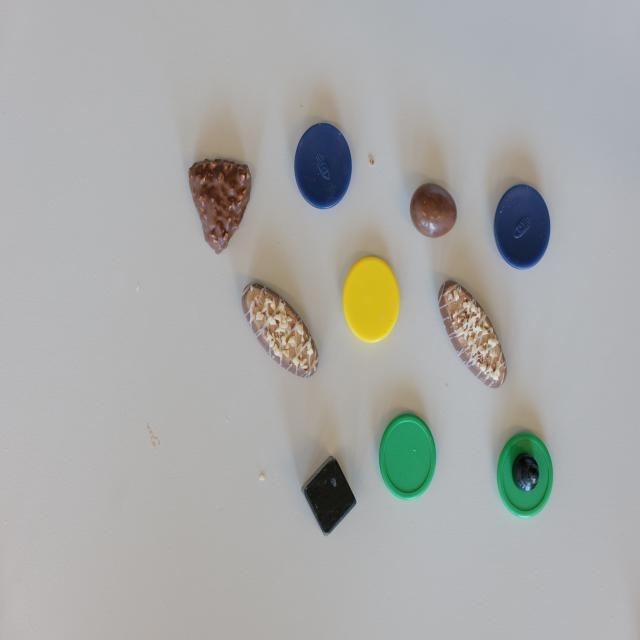Amandina: (438, 281, 507, 389), (242, 282, 319, 378)
Jelly_Milk: (410, 180, 457, 239)
Triangolo: (189, 158, 250, 254)
